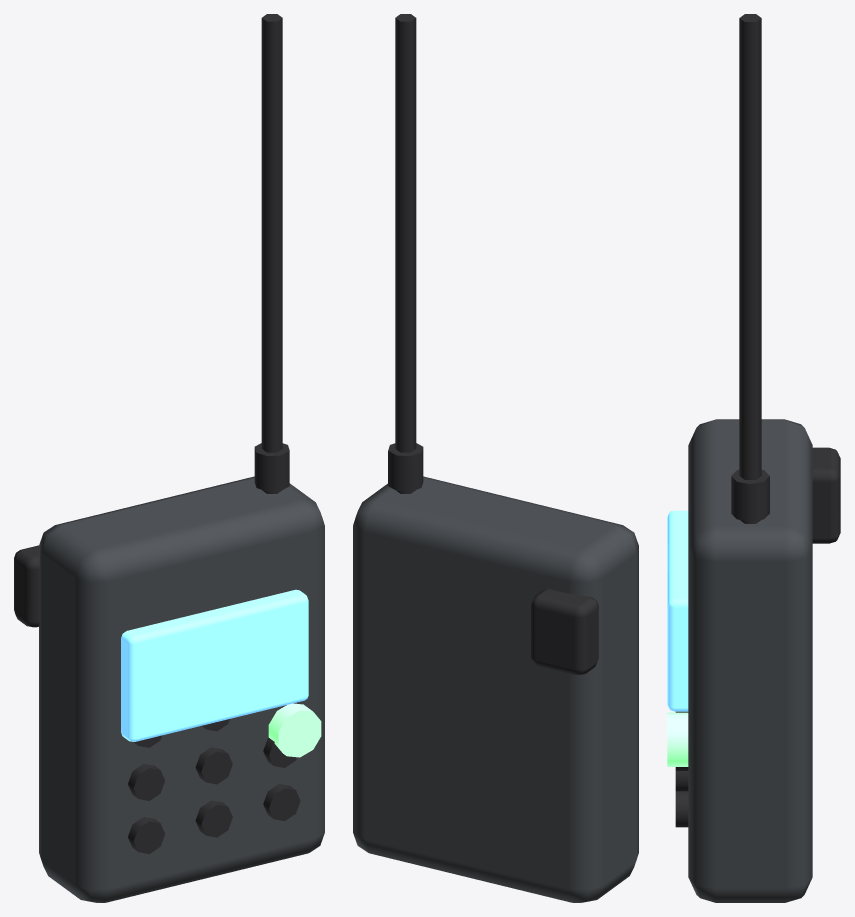
Rendered from fps-survival-forest-outpost-portable-radio-9096ed3f__32677.glb.
3 views of the same model, side by side, from view 1: azimuth 30°, elevation 25°; view 2: azimuth 150°, elevation 25°; view 3: azimuth 270°, elevation 25° (orthographic). The views are drawn at different scales.
Visible parts, largest first — view 1: portable-radio, antenna; view 2: portable-radio, antenna; view 3: portable-radio, antenna.
Boxes of the visible parts, bbox=[...] form: portable-radio: bbox=[14, 476, 324, 902]; antenna: bbox=[254, 14, 289, 493]; portable-radio: bbox=[353, 476, 638, 902]; antenna: bbox=[388, 14, 423, 493]; portable-radio: bbox=[667, 419, 840, 902]; antenna: bbox=[731, 14, 769, 523].
Size of the model in its own units: 0.225 by 0.7 by 0.125.
